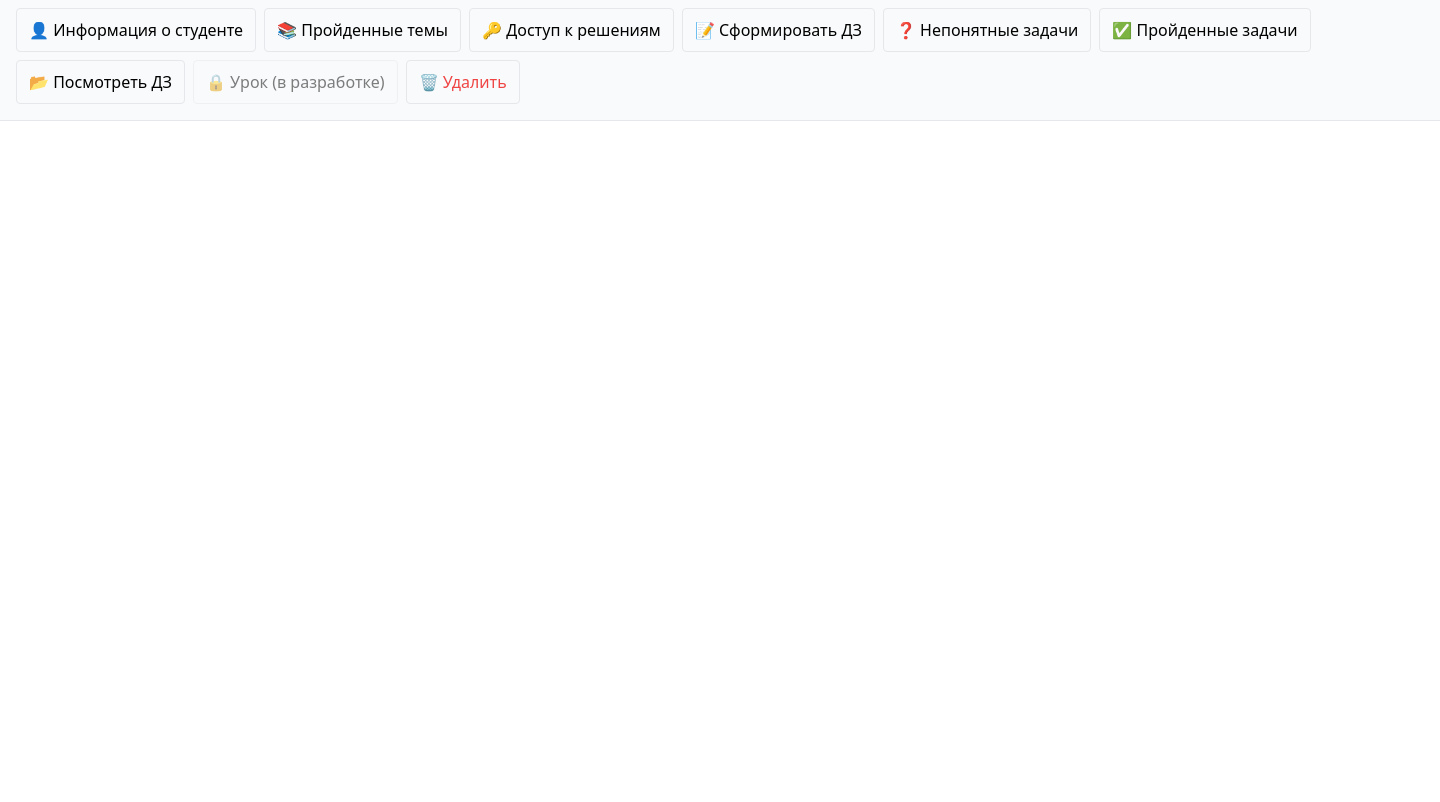
Test: connects homework generation to the resolved relationship rather than the URL user ID
Step 1. Click the button "📝 Сформировать ДЗ" → {"x": 778, "y": 30}, box [682,8,875,52]
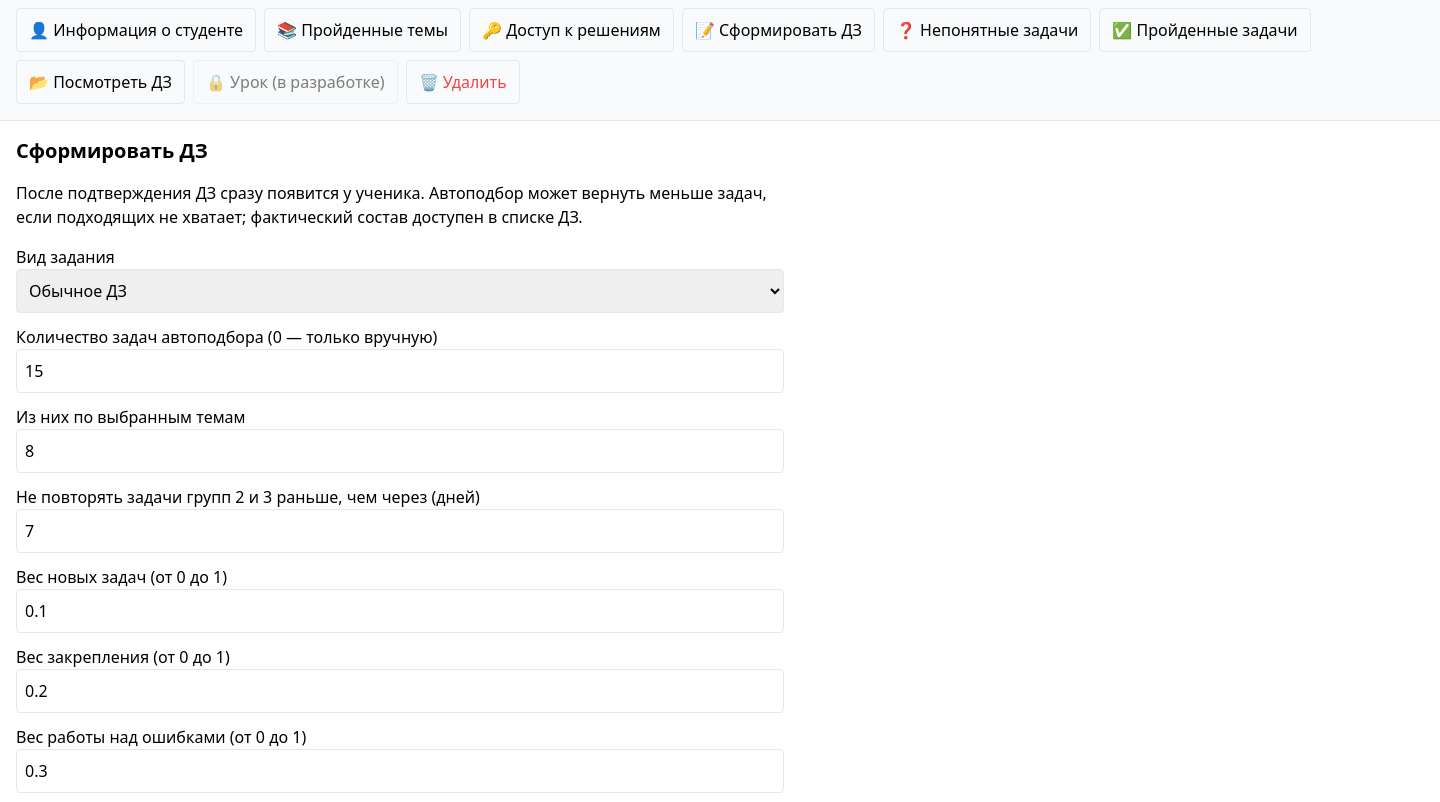
Step 2. Replace the text in the number field labelled "Количество задач автоподбора (0 — только вручную)" with "0" → {"x": 400, "y": 371}, box [16,349,784,393]
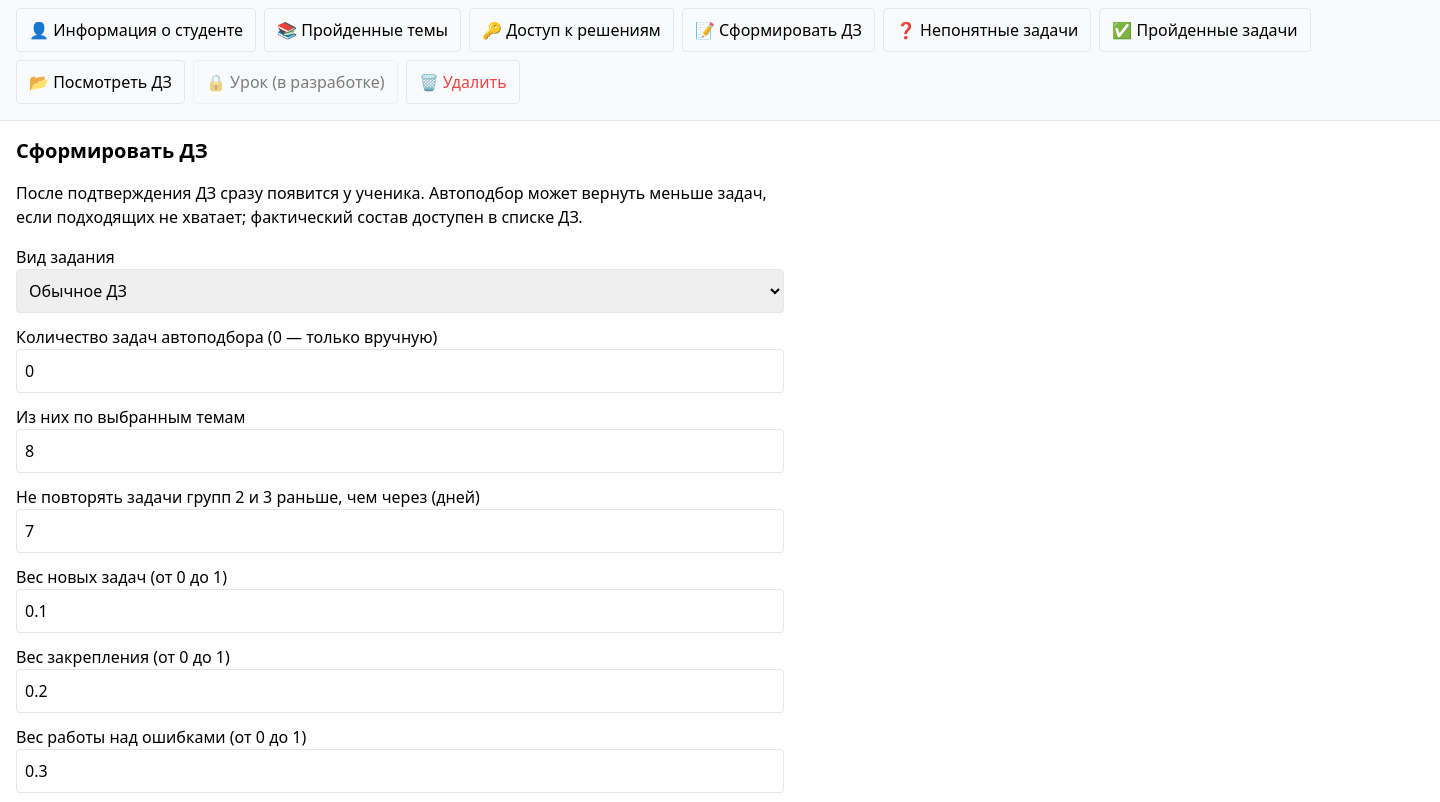
Step 3. Replace the text in the number field labelled "Из них по выбранным темам" with "0" → {"x": 400, "y": 451}, box [16,429,784,473]
(page scrolled)
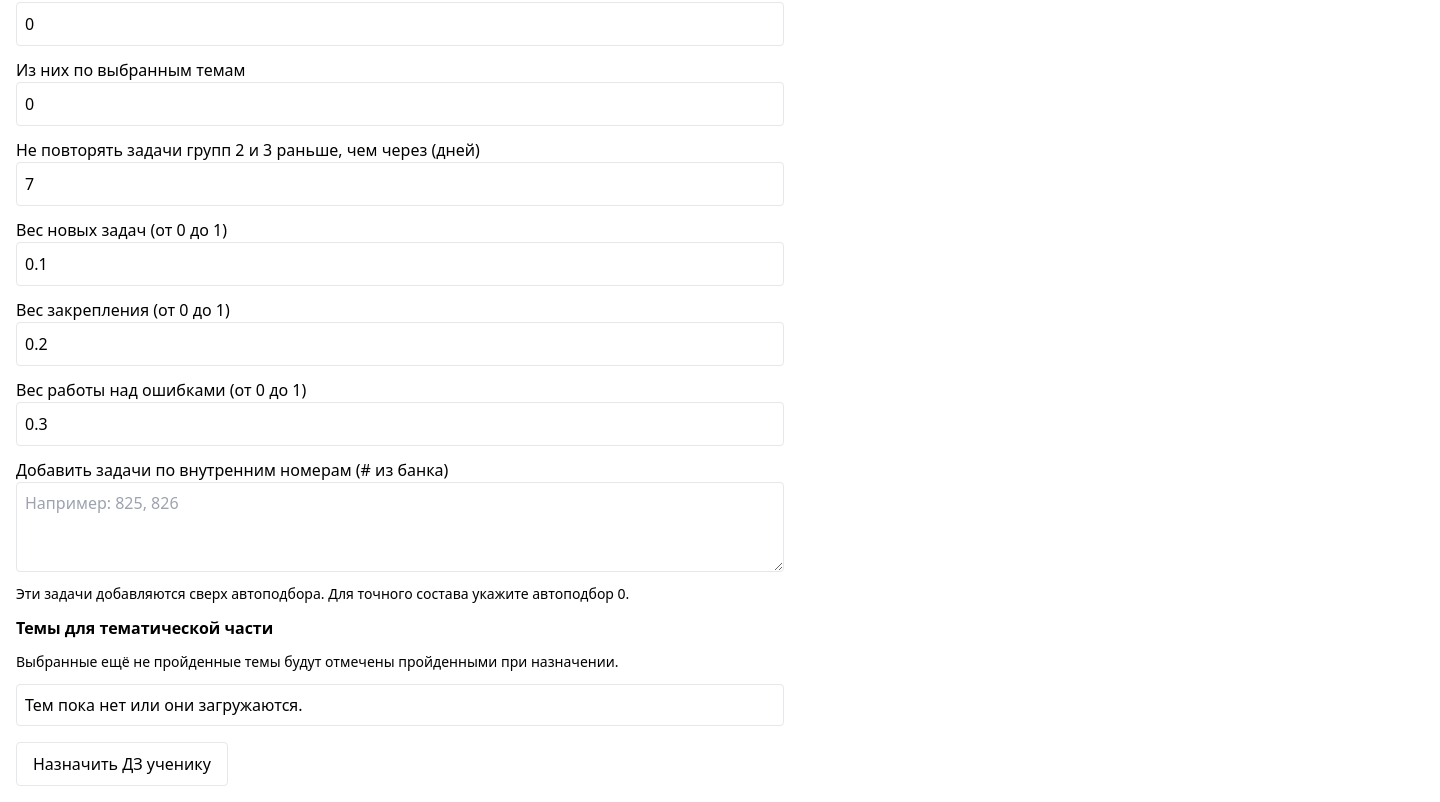
Step 4. Type "825" into the text box labelled "Добавить задачи по внутренним номерам (# из банка)" → {"x": 400, "y": 527}, box [16,482,784,572]
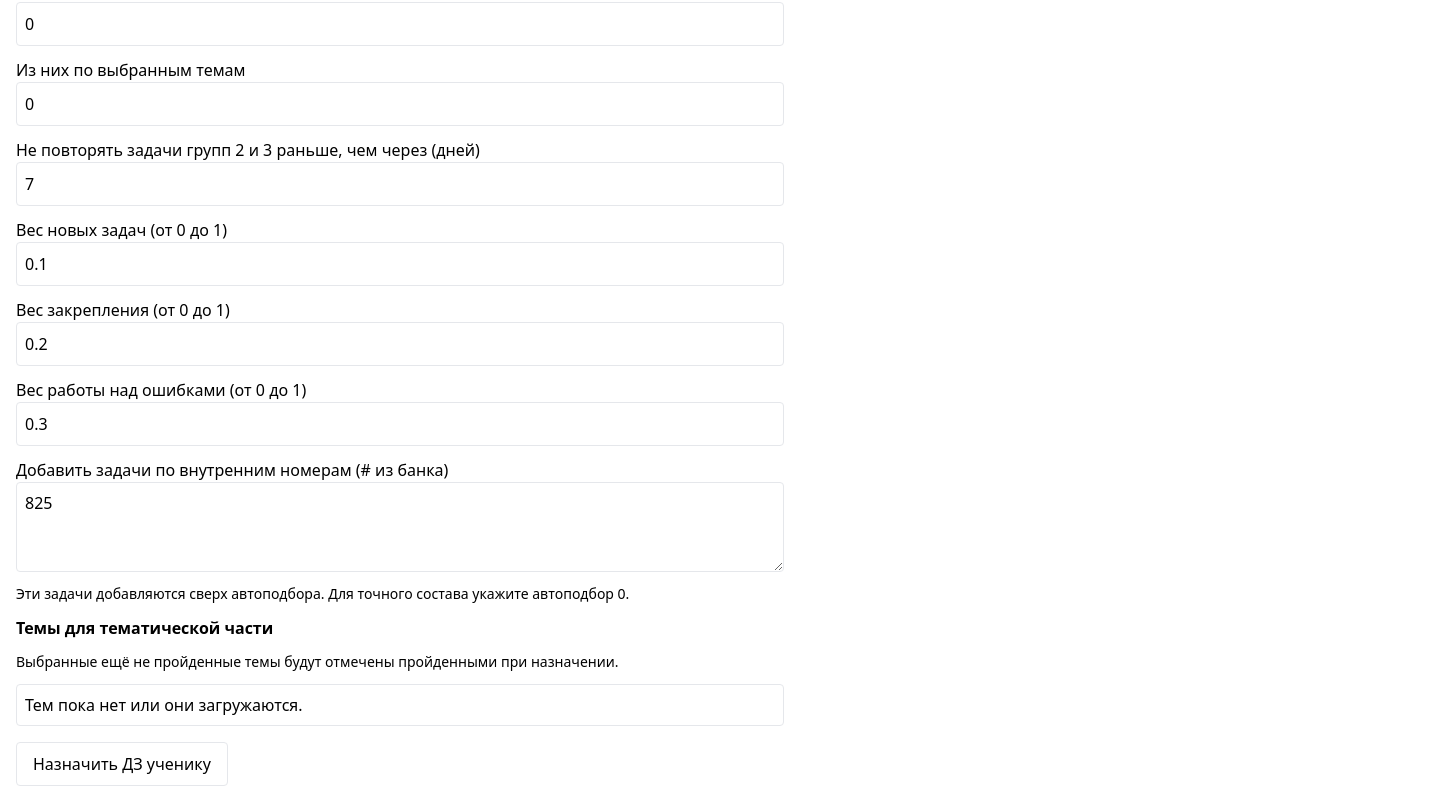
Step 5. Click the button "Назначить ДЗ ученику" → {"x": 122, "y": 764}, box [16,742,228,786]
(page scrolled)
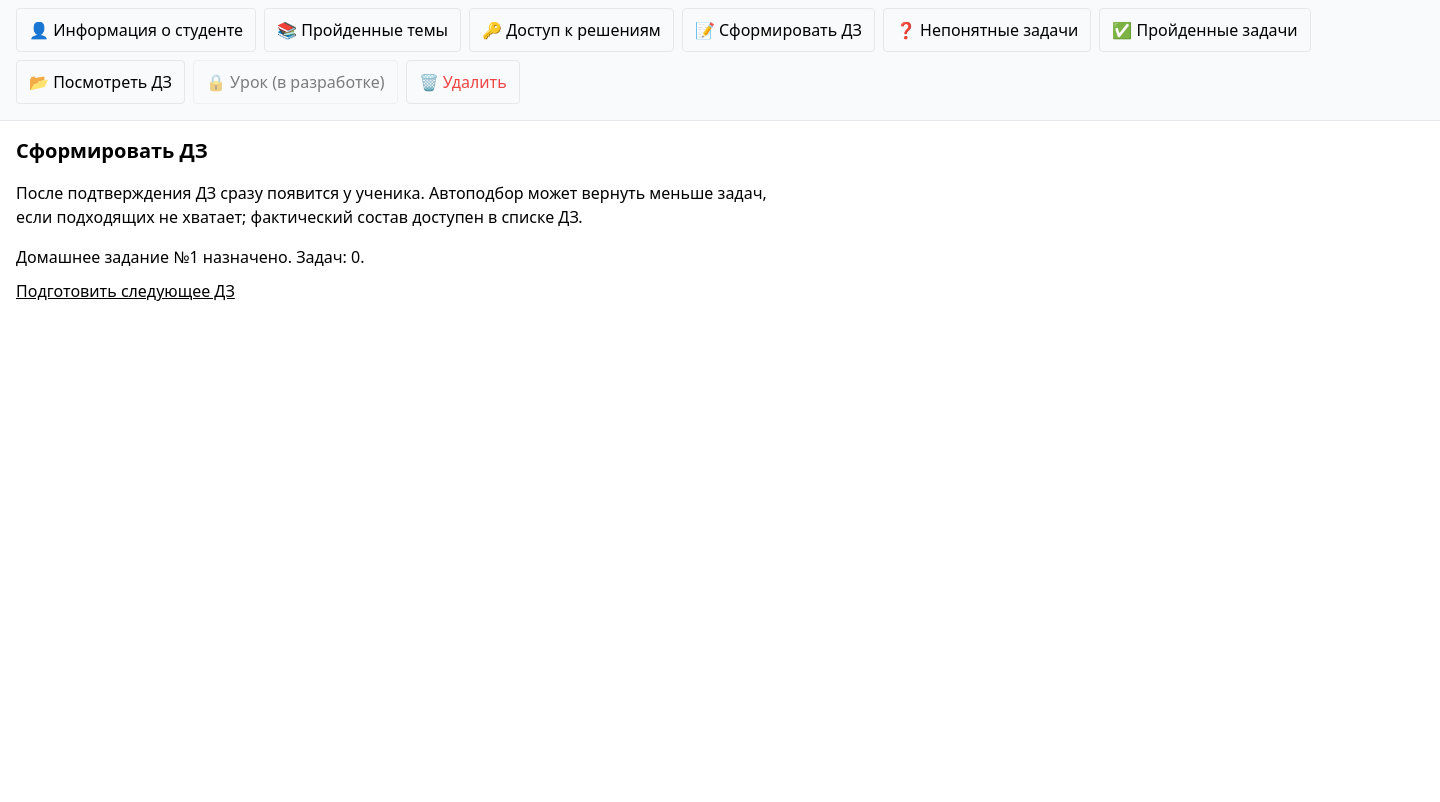
expect the text "Домашнее задание №1 назначено. Задач: 0. Подготовить следующее ДЗ" is shown: met, box [16,246,364,313]
Step 6. Click the button "📂 Посмотреть ДЗ" → {"x": 100, "y": 82}, box [16,60,185,104]
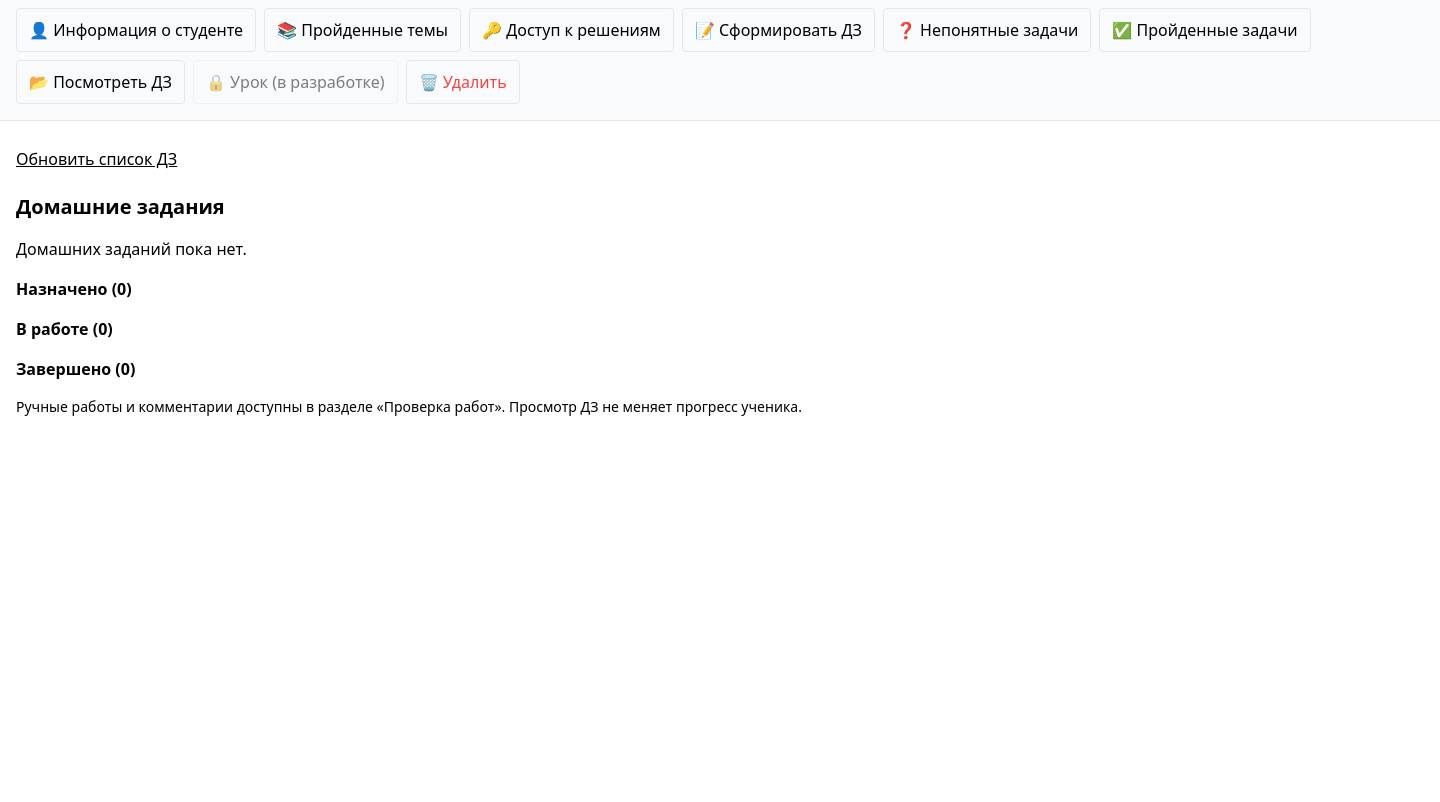
expect the heading "Домашние задания" is shown: met, box [16,193,225,220]
